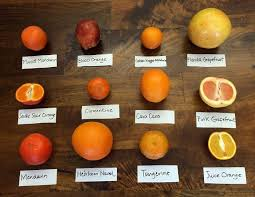orange: (19, 20, 52, 54)
